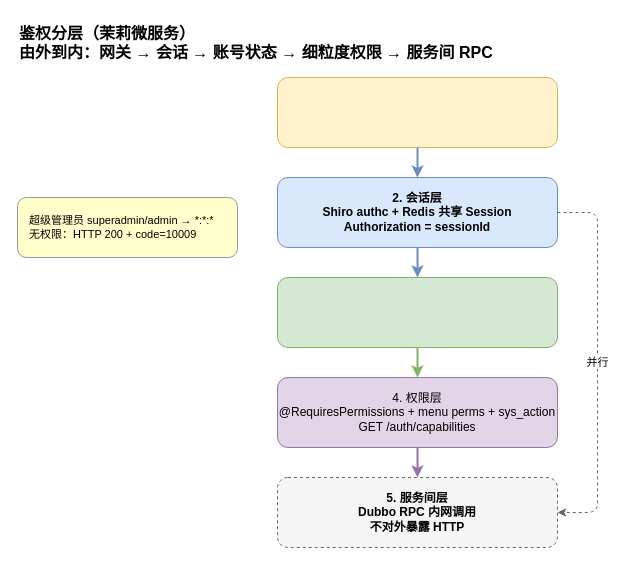
Image size: 626x565. Some labels were removed from this diagram. The centre of each missing label's shape, as x and y in pixels:
1. 网关层 限流 / CORS / 黑白名单 moli-gateway :21000: [417,112]
3. 请求层 每次校验账号停用/删除 AuthenticationFilter: [417,312]
